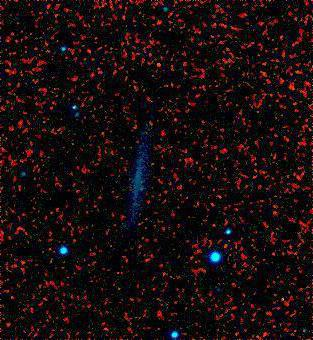star: (144, 51, 174, 81)
